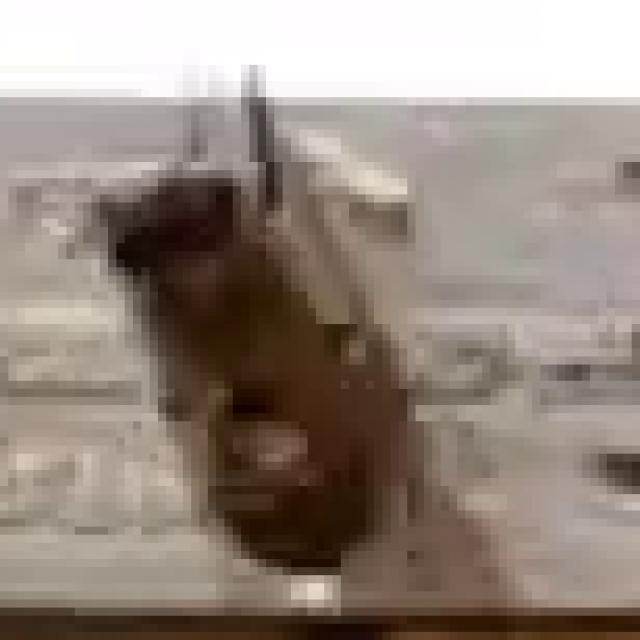honeybee: (81, 110, 461, 586)
